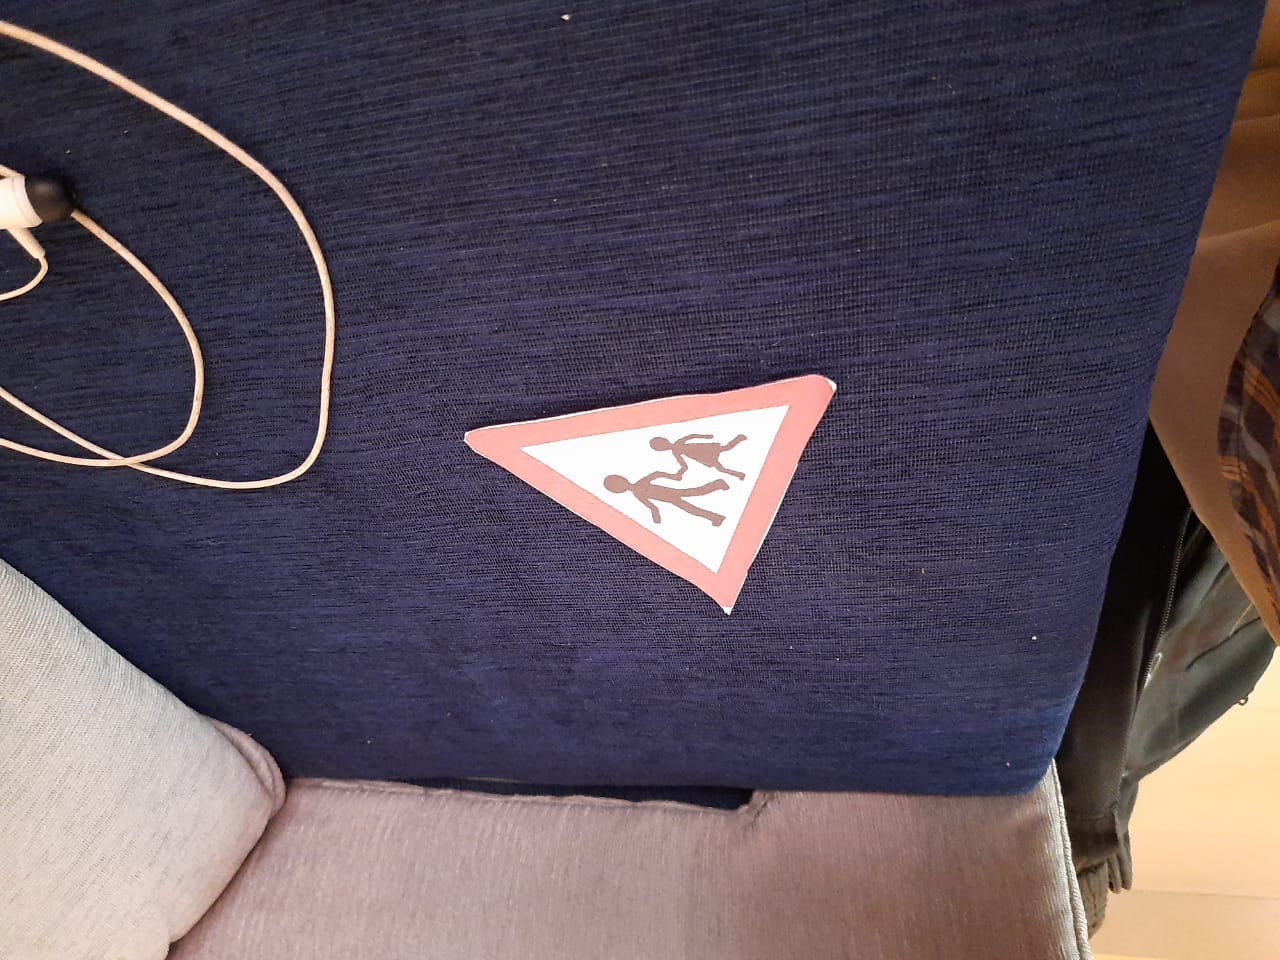SCHOOL ZONE: (431, 313, 870, 623)
